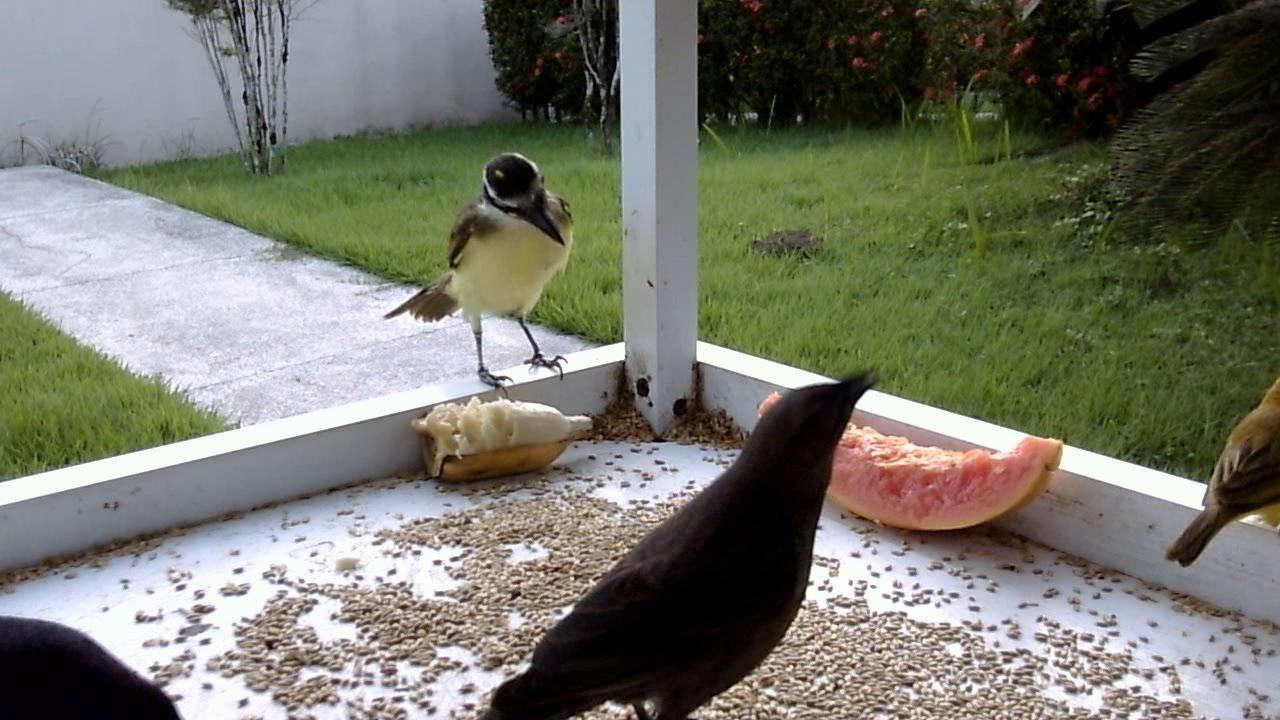bem_te_vi: (381, 142, 574, 412)
canario_do_amazonas: (1164, 360, 1280, 578)
chupim: (471, 355, 880, 714)
